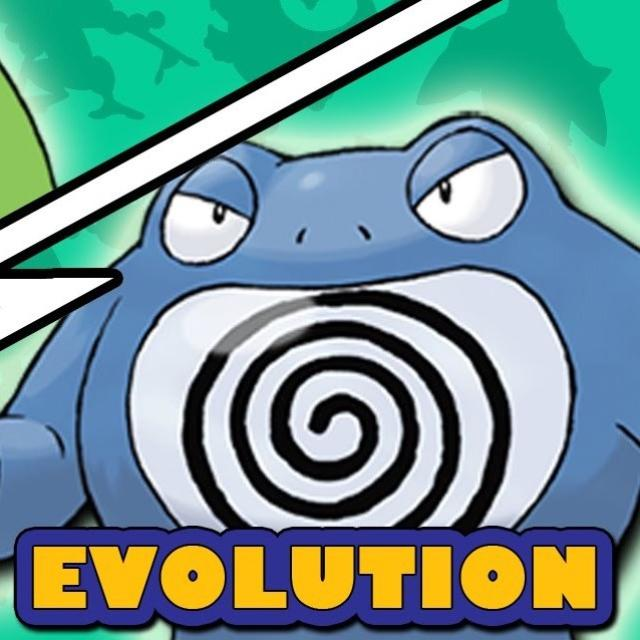Poliwrath: (117, 114, 638, 537)
